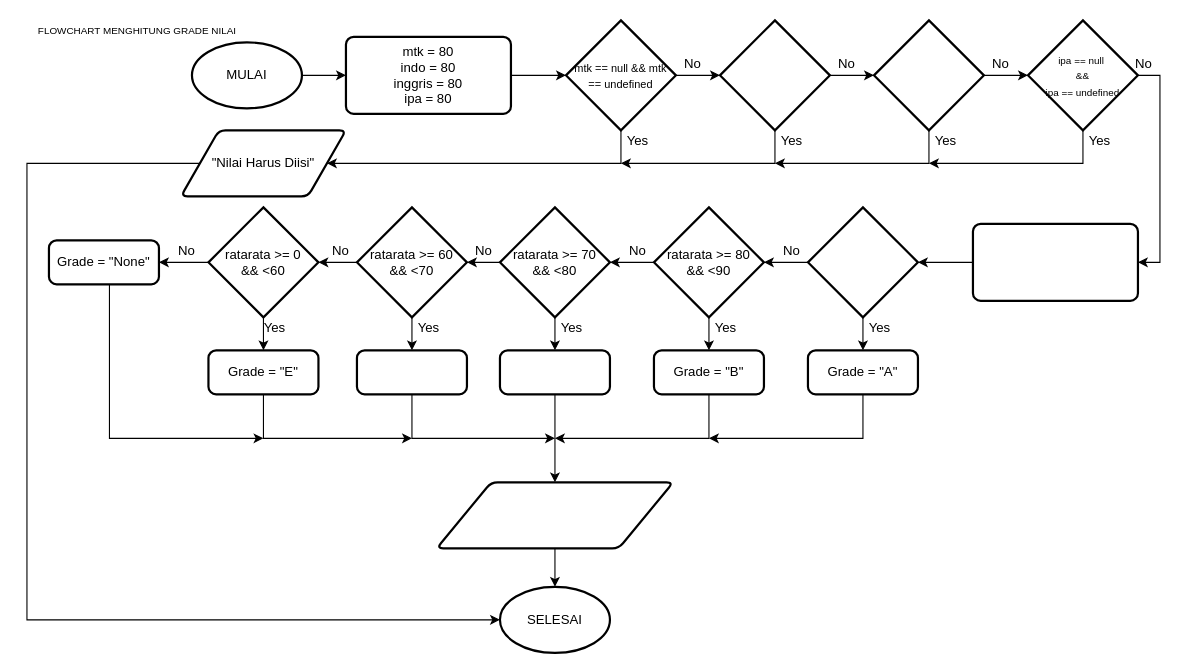
The diagram is 1188 pixels wide and 672 high, and some of its shapes have lost their labels. Each missing label, with the centre of its shape:
"Rata Rata = " + ratarata "Grade = " + Grade: [554,515]
Grade = "C": [554,372]
Grade = "D": [411,372]
indo == null && indo == undefined: [774,75]
inggris == null && inggris == undefined: [928,75]
ratarata = (mtk+indo+inggris+ipa)/4: [1054,261]
ratarata >= 90 && <=100: [862,262]
